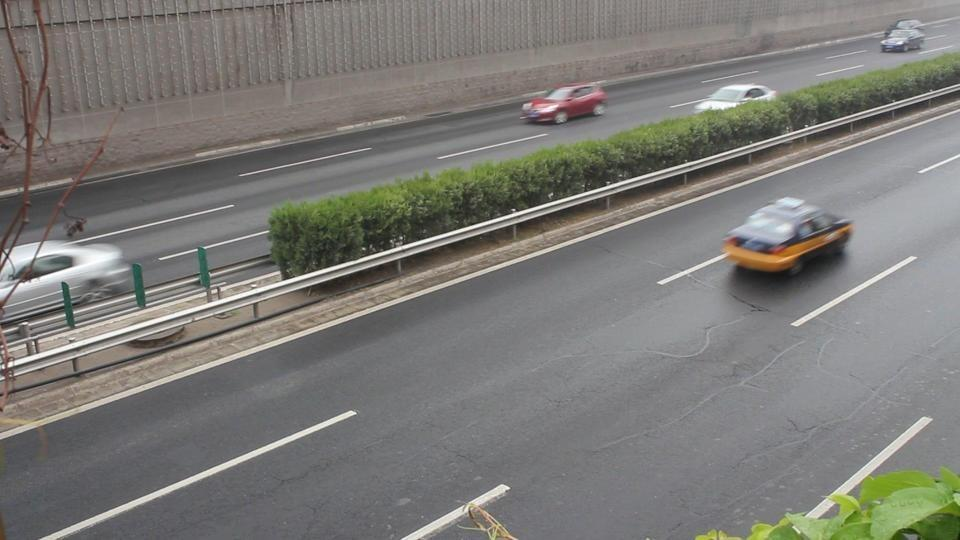car: (720, 195, 855, 276), (0, 239, 128, 308), (520, 82, 608, 125), (693, 84, 779, 114), (880, 19, 926, 52)
